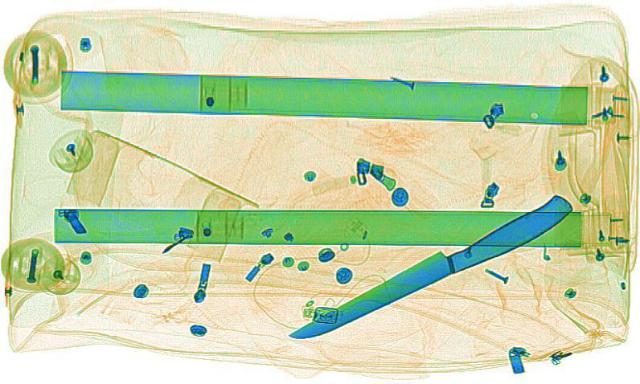Knife: (279, 192, 587, 346)
